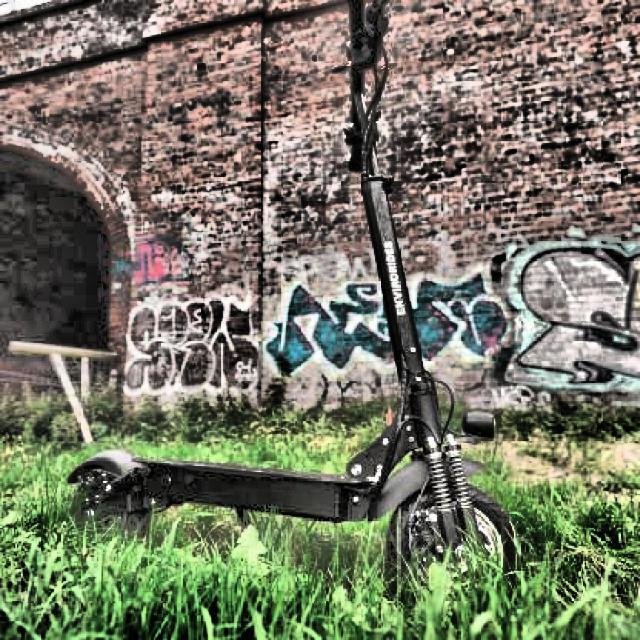bike: (65, 4, 520, 603)
